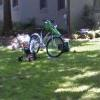Bicycle: (26, 15, 67, 57)
